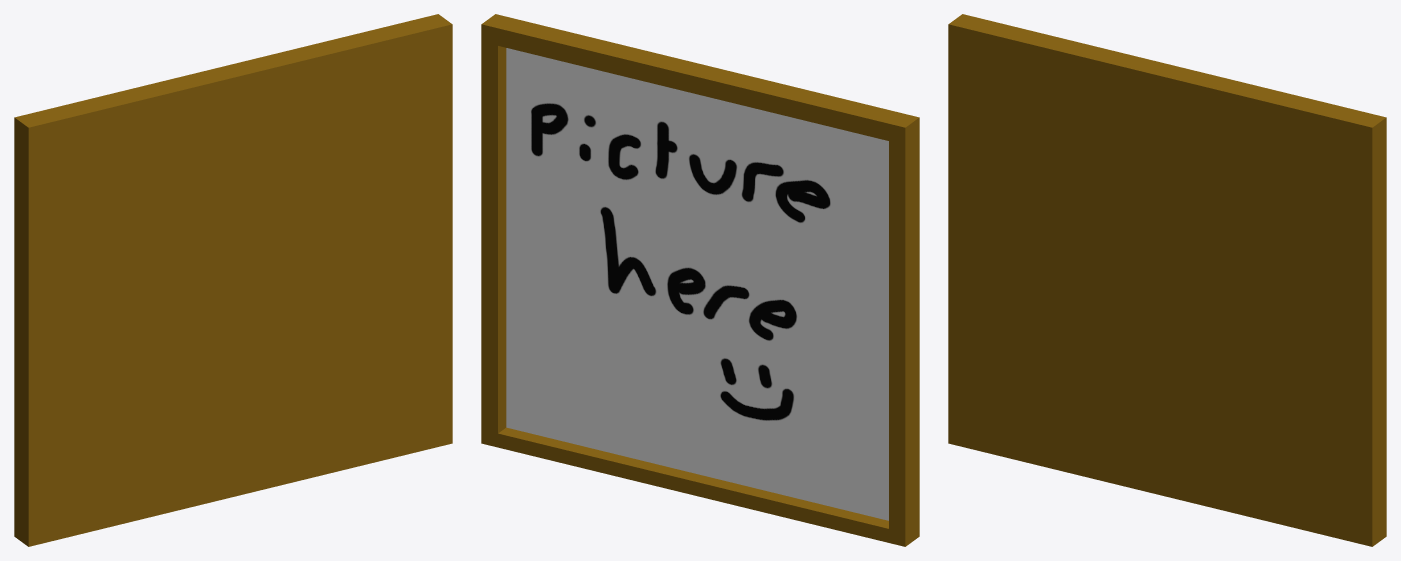
File: Large_Pictureframe.fbx
The picture shows the model from 3 angles, left to right: view 1: azimuth 30°, elevation 25°; view 2: azimuth 150°, elevation 25°; view 3: azimuth 330°, elevation 25°; orthographic projection.
Visible parts, largest first — view 1: Cube.072; view 2: Cube.072; view 3: Cube.072.
Part boxes in pixels (x1,y1,x2,y2): Cube.072: (14, 14, 452, 546); Cube.072: (481, 14, 919, 546); Cube.072: (948, 14, 1386, 546).
Bounding box in the file's own units: 135 × 127 × 7.75.
